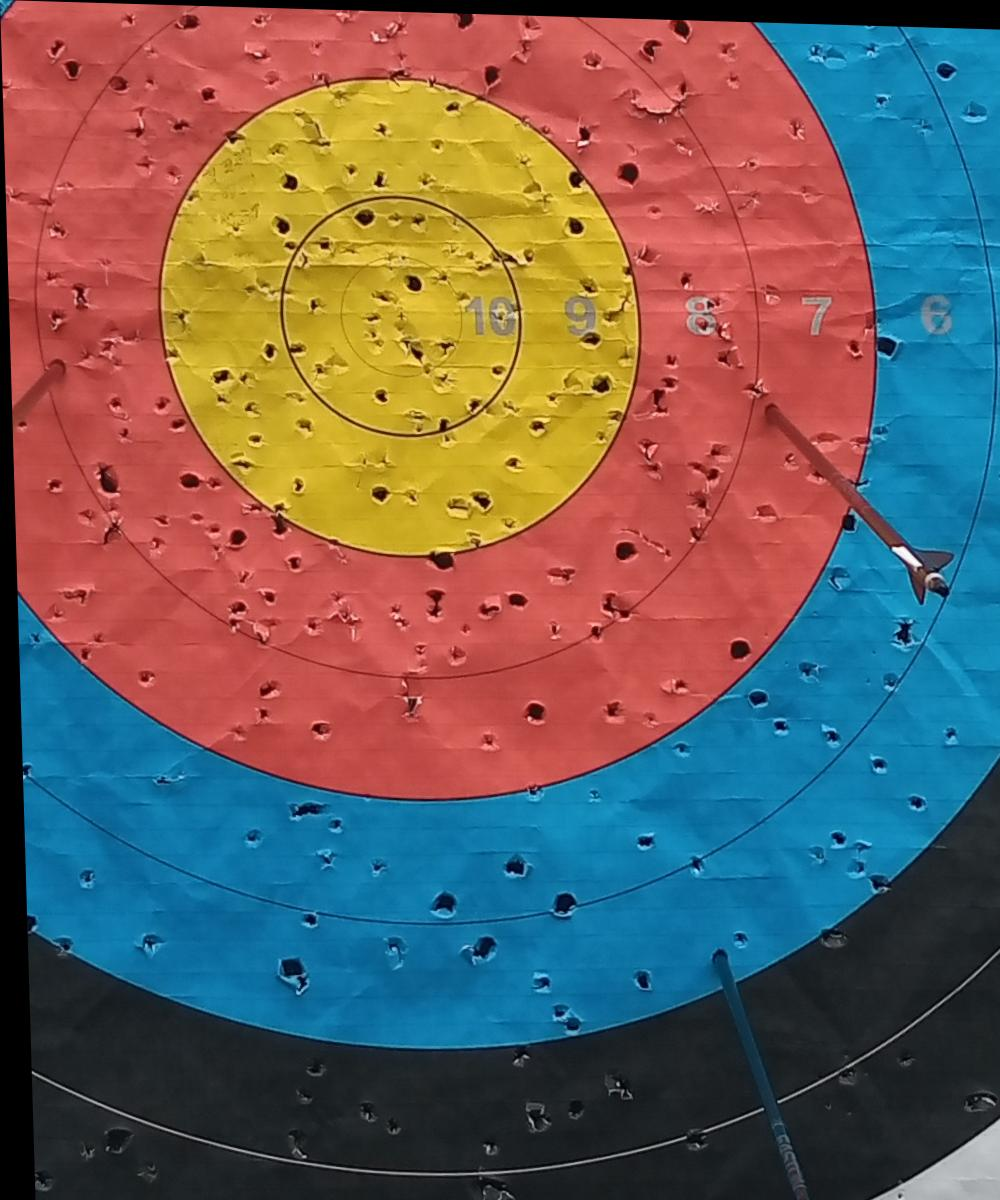10-Ring: (237, 150, 561, 477)
7-Ring: (0, 0, 880, 810)
8-Ring: (27, 1, 764, 684)
9-Ring: (154, 70, 642, 563)
Arrow: (736, 394, 967, 609), (705, 947, 806, 1200), (0, 361, 64, 432)
